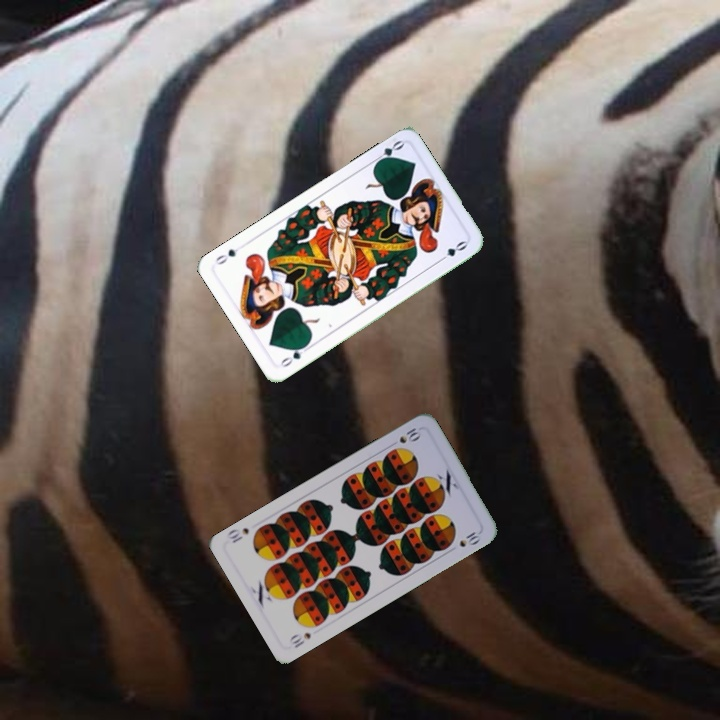GO: (369, 136, 406, 167), (276, 340, 313, 370)
S10: (386, 423, 424, 450), (285, 628, 314, 651)
